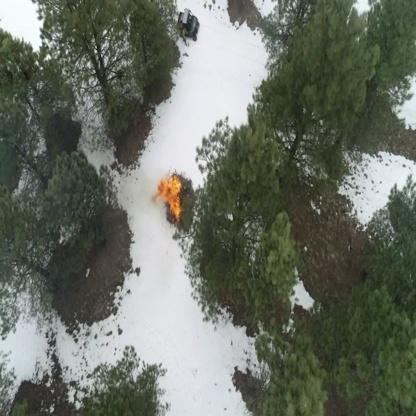Fire: (153, 173, 183, 222)
